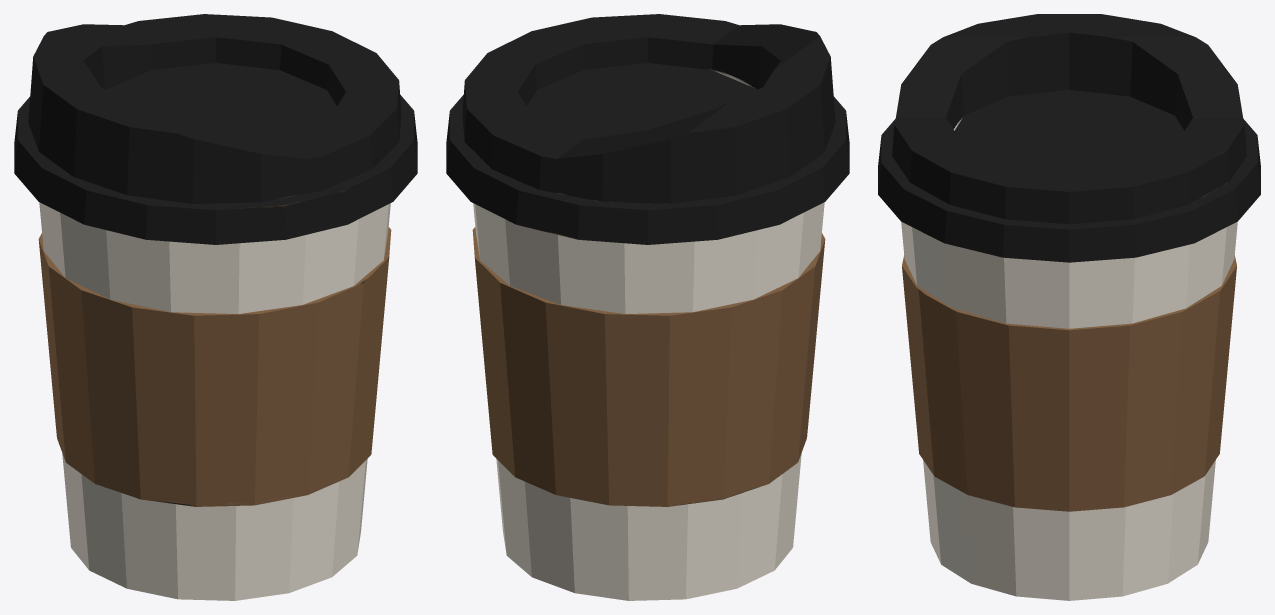
Rendered from coffee.fbx.
3 renders of one model, left to right at view 1: azimuth 30°, elevation 25°; view 2: azimuth 150°, elevation 25°; view 3: azimuth 270°, elevation 25°, orthographic. The views are drawn at different scales.
Parts seen in each view (by area): view 1: coffee; view 2: coffee; view 3: coffee.
Boxes of the visible parts, x1,y1,x2,y2 form: coffee: [14, 14, 417, 600]; coffee: [446, 14, 849, 600]; coffee: [878, 14, 1260, 600].
Bounding box in the file's own units: 1120 × 1450 × 1103.
